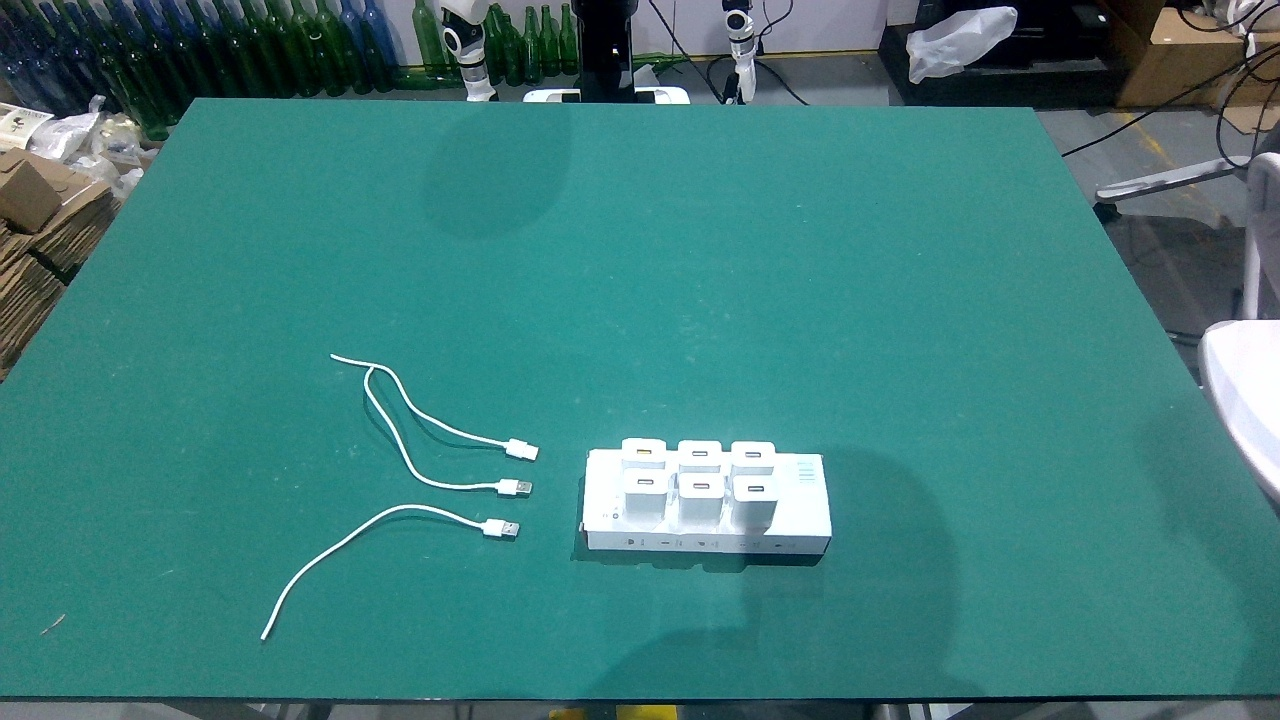usb_a_port: (634, 476, 656, 487), (690, 481, 712, 491), (742, 450, 763, 460), (746, 484, 766, 494), (689, 449, 711, 458), (633, 447, 654, 456)
